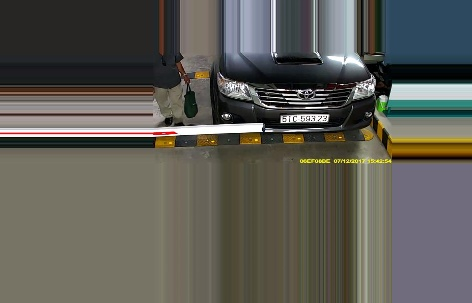plate: (277, 111, 327, 125)
